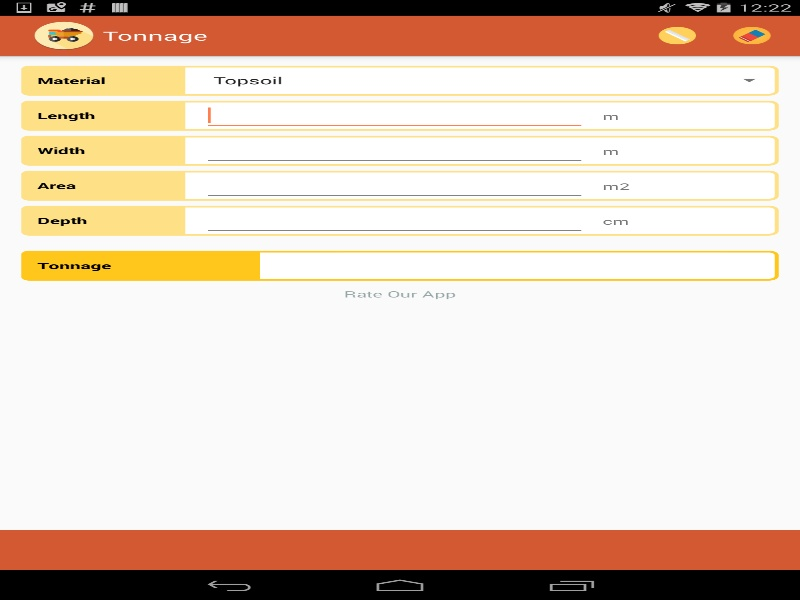Input: (202, 100, 586, 130), (202, 135, 586, 165), (202, 170, 586, 200), (202, 205, 586, 235)
